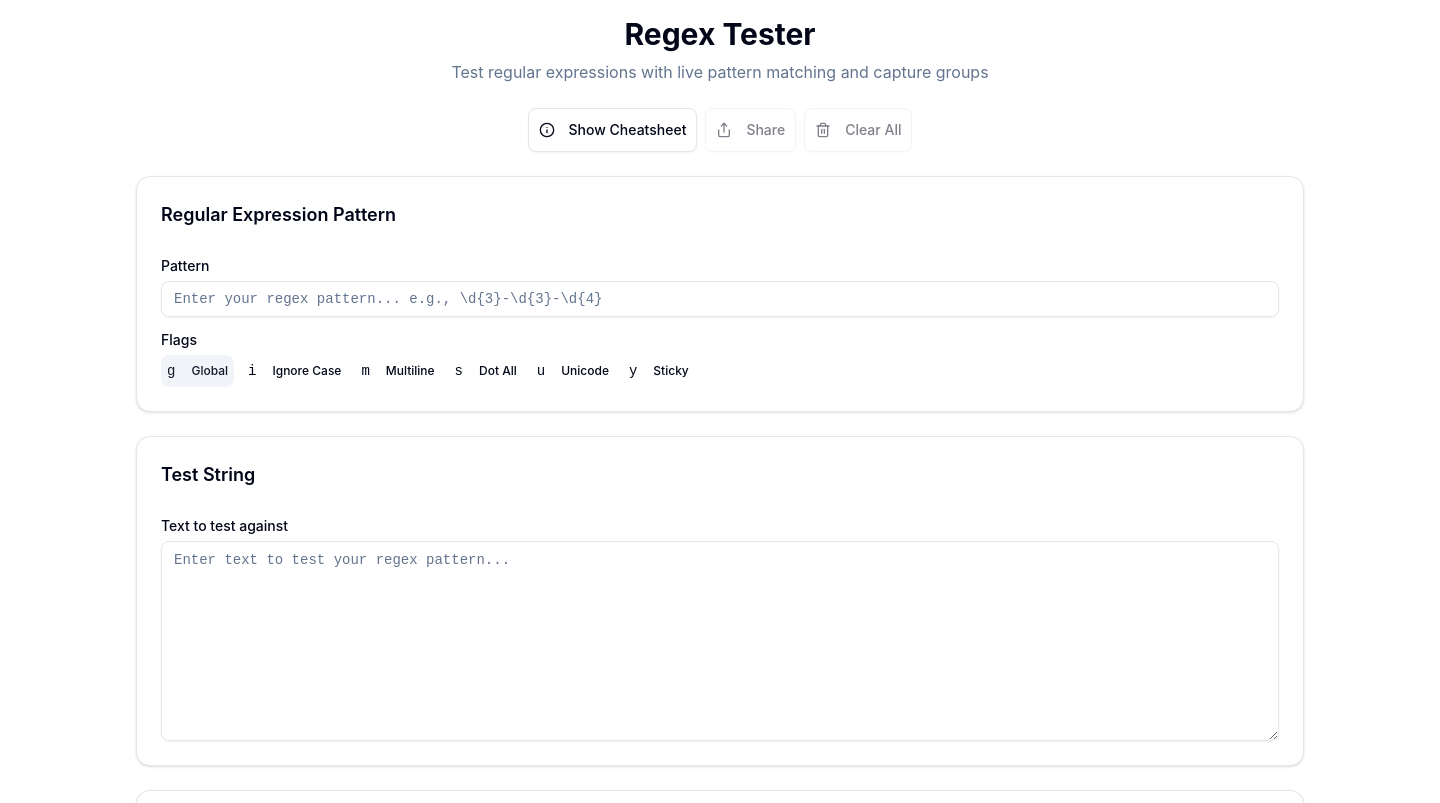
RegexTester › global flag affects match count
Type "\\d+" into the field labelled "Pattern" at [720, 299], box [161,281,1279,317]
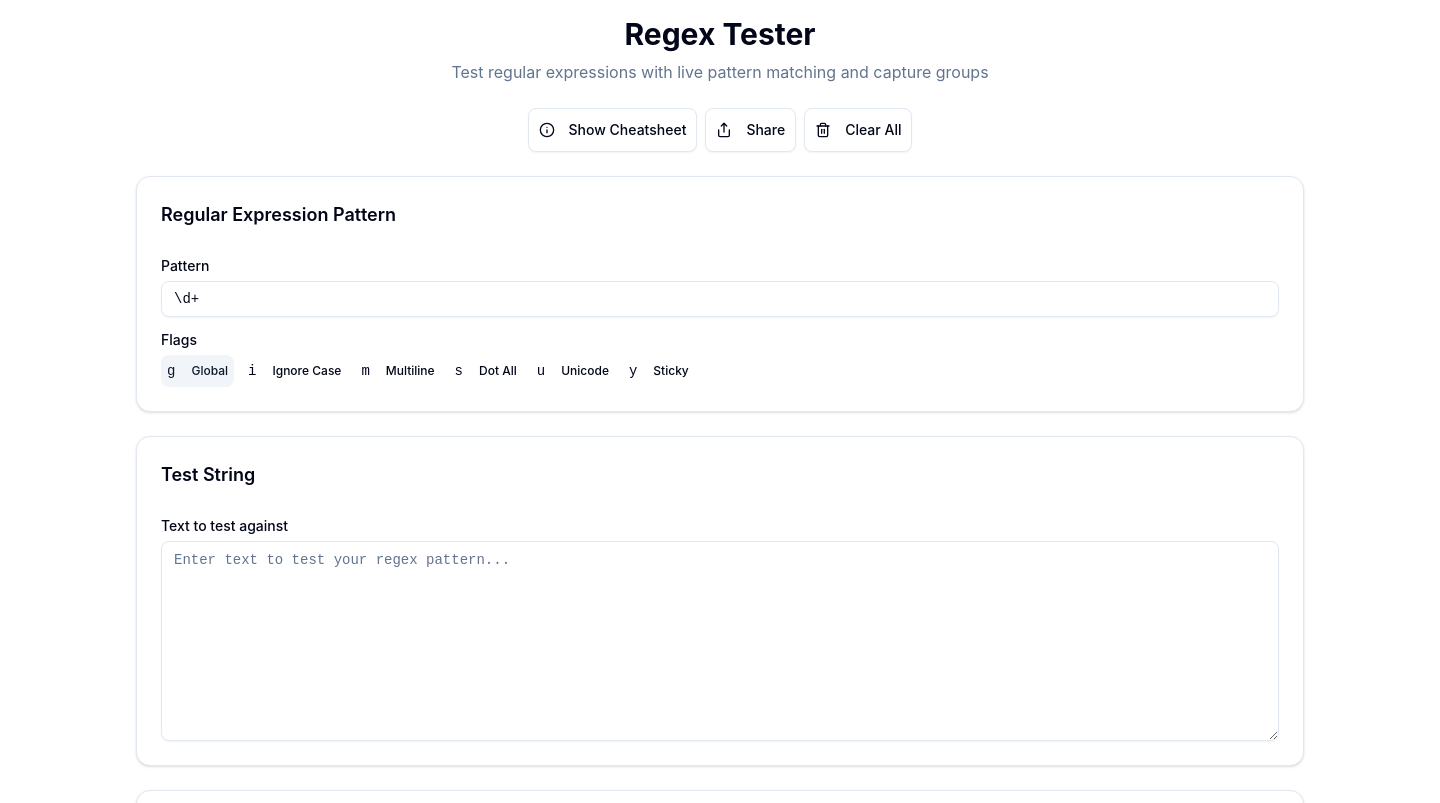
Type "123 456 789" into the text box labelled "Text to test against" at [720, 641], box [161,541,1279,741]
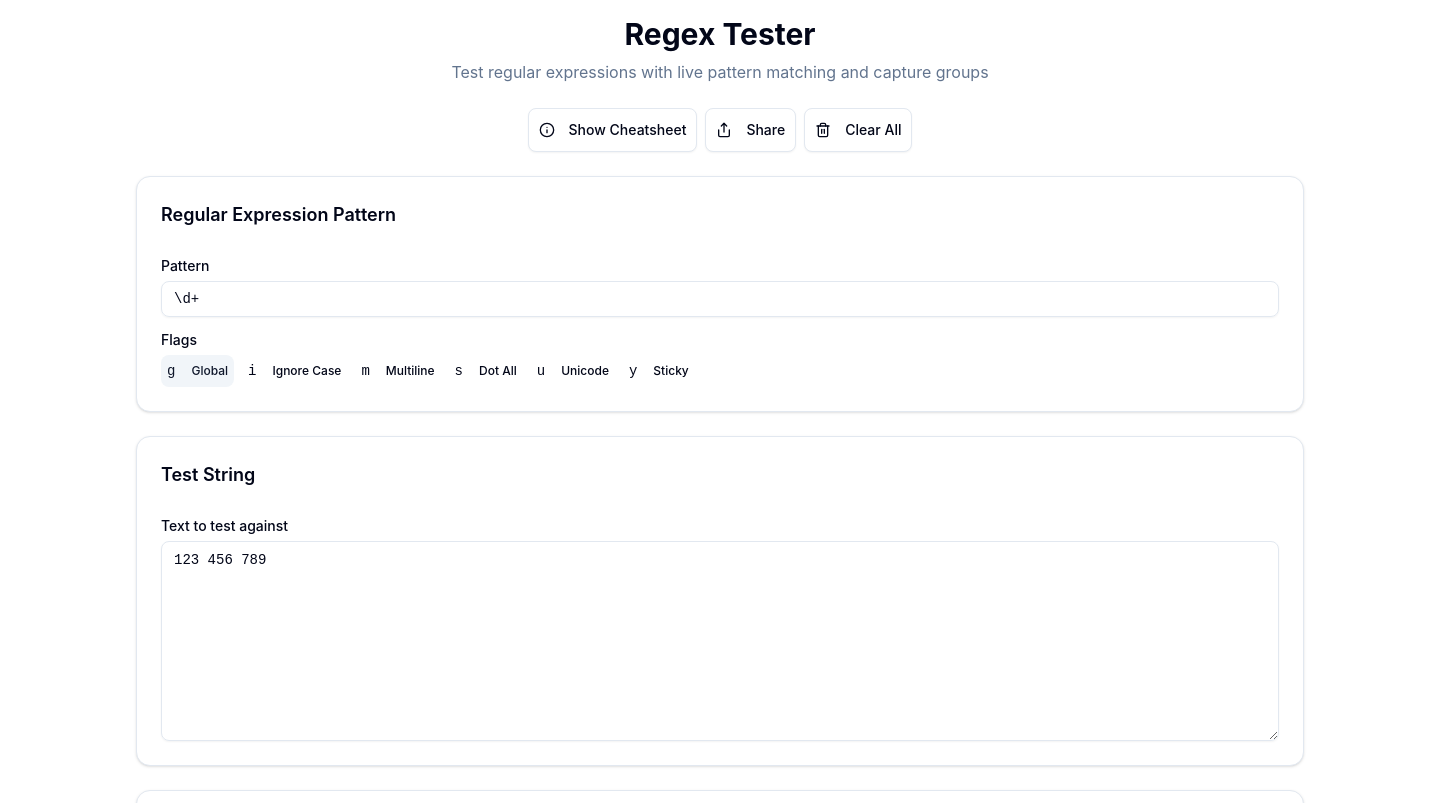
Note: Disable global flag
Click the button with aria-label "Global flag (g)" at [198, 371], box [161,355,234,387]
(page scrolled)
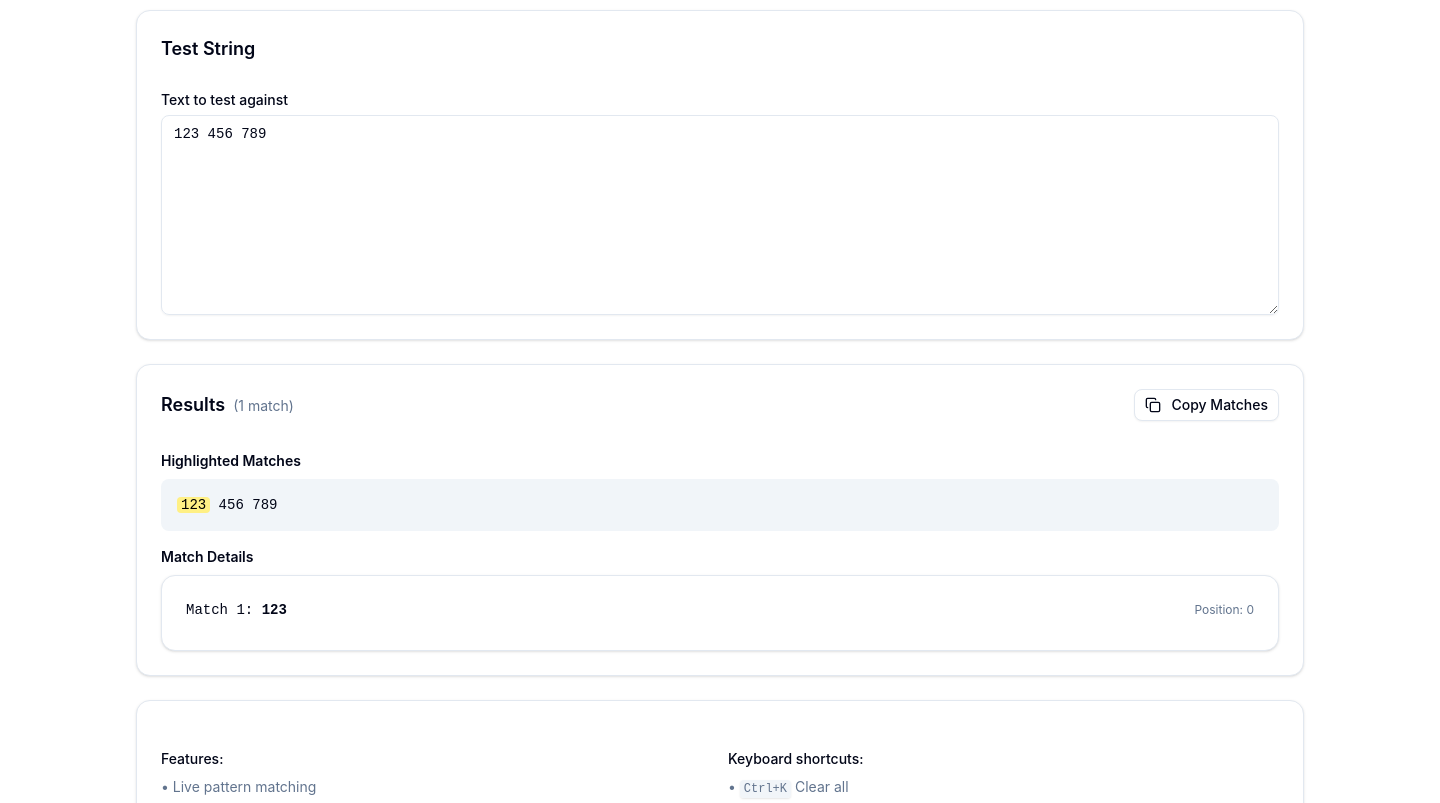
expect the text "(1 match)" is shown: met, box [233,397,294,414]
